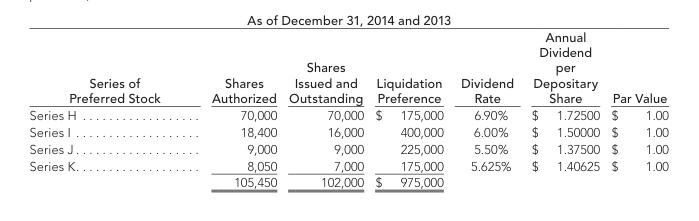table: (28, 28, 668, 189)
table column: (28, 28, 185, 189), (185, 28, 282, 189), (282, 28, 368, 189), (368, 28, 451, 189), (522, 28, 604, 189), (451, 28, 522, 189), (604, 28, 668, 189)
table column header: (28, 28, 668, 106)
table row: (28, 28, 668, 106), (28, 122, 668, 139), (28, 139, 668, 156), (28, 156, 668, 173), (28, 106, 668, 122), (28, 173, 668, 189)
